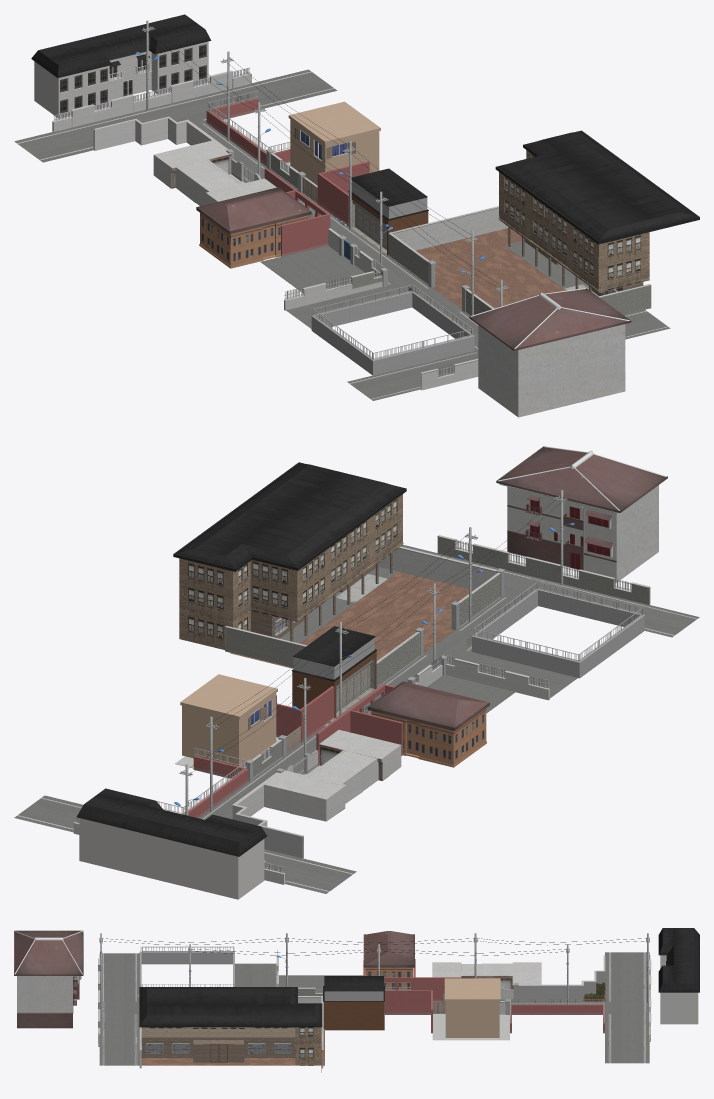
The model's file is japan_street.glb.
3 views of the same model, one above another, from view 1: azimuth 30°, elevation 25°; view 2: azimuth 150°, elevation 25°; view 3: azimuth 270°, elevation 25° (orthographic). The views are drawn at different scales.
Parts seen in each view (by area): view 1: street_Street_0_61, Old Building_Old Building_0_15, Building 12_Building 12_0_8, wall 14_wall 14_0_71, Building 07_Building 07_0_6, Building 01_Building 01_0_0, Building 04_Building 04_0_2, wall 1_wall 1_0_69, wall 03_wall 03_0_65, Building 05_Building 05_0_4, wall 06_wall 06_0_67; view 2: Old Building_Old Building_0_15, street_Street_0_61, Building 12_Building 12_0_8, wall 14_wall 14_0_71, Building 07_Building 07_0_6, Building 04_Building 04_0_2, Building 01_Building 01_0_0, wall 1_wall 1_0_69, Building 05_Building 05_0_4, wall 06_wall 06_0_67, wall 03_wall 03_0_65; view 3: street_Street_0_61, Old Building_Old Building_0_15, Building 12_Building 12_0_8, Building 04_Building 04_0_2, Building 07_Building 07_0_6, wall 1_wall 1_0_69, Building 01_Building 01_0_0, wall 03_wall 03_0_65, wall 14_wall 14_0_71, Building 05_Building 05_0_4, wall 06_wall 06_0_67, port.005_port_0_35 (+4 smaller).
Part boxes in pixels (bbox=[...]): street_Street_0_61: bbox=[14, 69, 670, 400]; Old Building_Old Building_0_15: bbox=[495, 130, 699, 296]; Building 12_Building 12_0_8: bbox=[469, 288, 631, 417]; wall 14_wall 14_0_71: bbox=[311, 206, 651, 375]; Building 07_Building 07_0_6: bbox=[31, 14, 211, 118]; Building 01_Building 01_0_0: bbox=[196, 168, 330, 268]; Building 04_Building 04_0_2: bbox=[266, 101, 417, 293]; wall 1_wall 1_0_69: bbox=[284, 168, 428, 310]; wall 03_wall 03_0_65: bbox=[93, 91, 290, 174]; Building 05_Building 05_0_4: bbox=[153, 140, 276, 205]; wall 06_wall 06_0_67: bbox=[52, 67, 478, 390]; Old Building_Old Building_0_15: bbox=[173, 462, 406, 649]; street_Street_0_61: bbox=[14, 545, 699, 893]; Building 12_Building 12_0_8: bbox=[496, 446, 667, 582]; wall 14_wall 14_0_71: bbox=[225, 546, 644, 687]; Building 07_Building 07_0_6: bbox=[76, 788, 267, 899]; Building 04_Building 04_0_2: bbox=[180, 632, 476, 781]; Building 01_Building 01_0_0: bbox=[316, 681, 489, 767]; wall 1_wall 1_0_69: bbox=[291, 626, 549, 718]; Building 05_Building 05_0_4: bbox=[264, 730, 401, 821]; wall 06_wall 06_0_67: bbox=[73, 535, 650, 884]; wall 03_wall 03_0_65: bbox=[156, 747, 303, 858]; street_Street_0_61: bbox=[99, 952, 649, 1065]; Old Building_Old Building_0_15: bbox=[139, 987, 322, 1072]; Building 12_Building 12_0_8: bbox=[14, 930, 83, 1028]; Building 04_Building 04_0_2: bbox=[385, 978, 510, 1037]; Building 07_Building 07_0_6: bbox=[658, 928, 699, 1024]; wall 1_wall 1_0_69: bbox=[276, 950, 384, 1030]; Building 01_Building 01_0_0: bbox=[363, 931, 461, 1001]; wall 03_wall 03_0_65: bbox=[510, 955, 605, 1033]; wall 14_wall 14_0_71: bbox=[138, 946, 323, 1068]; Building 05_Building 05_0_4: bbox=[432, 962, 541, 1001]; wall 06_wall 06_0_67: bbox=[98, 955, 651, 1046]; port.005_port_0_35: bbox=[290, 933, 477, 978].
Size of the model in its own units: 39.32 by 9.77 by 84.91.
13 materials, 13 textured.
